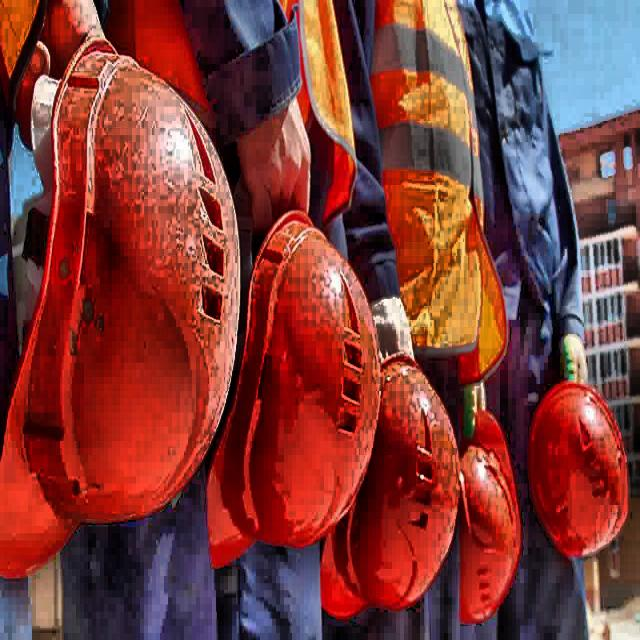safety_helmet: (0, 38, 244, 579), (204, 208, 382, 574), (318, 353, 464, 623), (528, 380, 632, 560), (459, 408, 524, 624)
safety_jacket: (370, 0, 510, 386)
